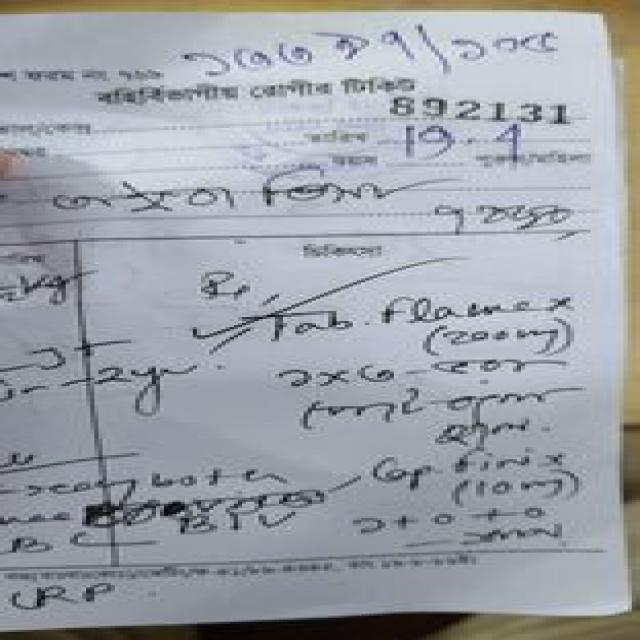Finix: (441, 450, 596, 479)
Flamex: (362, 292, 589, 323)
